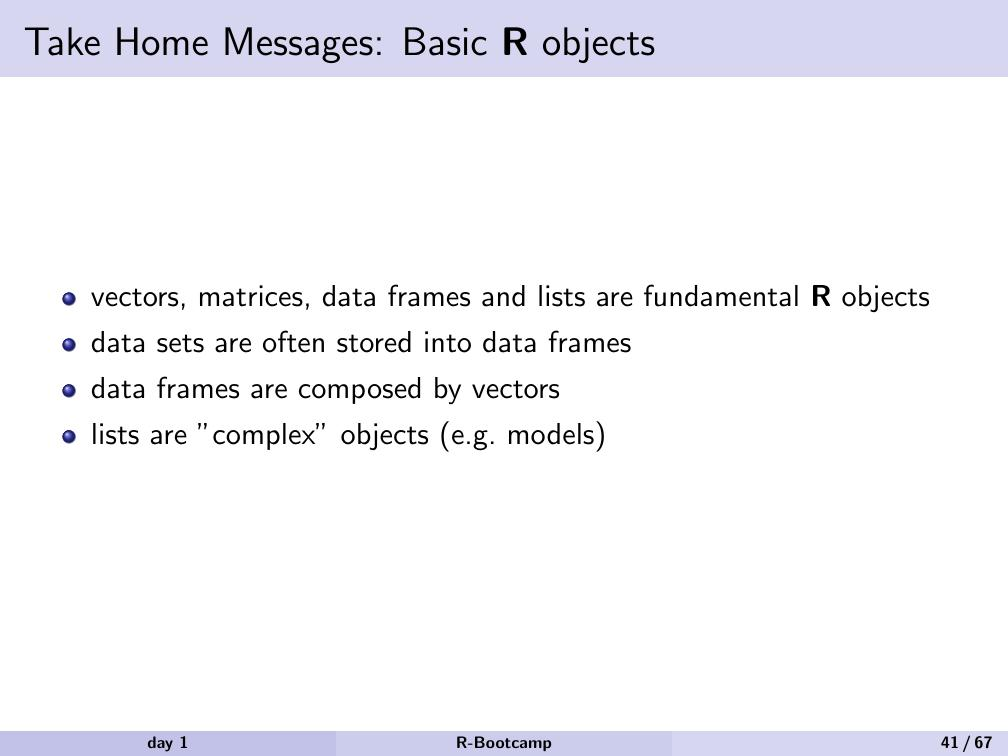Title: (12, 15, 658, 72)
